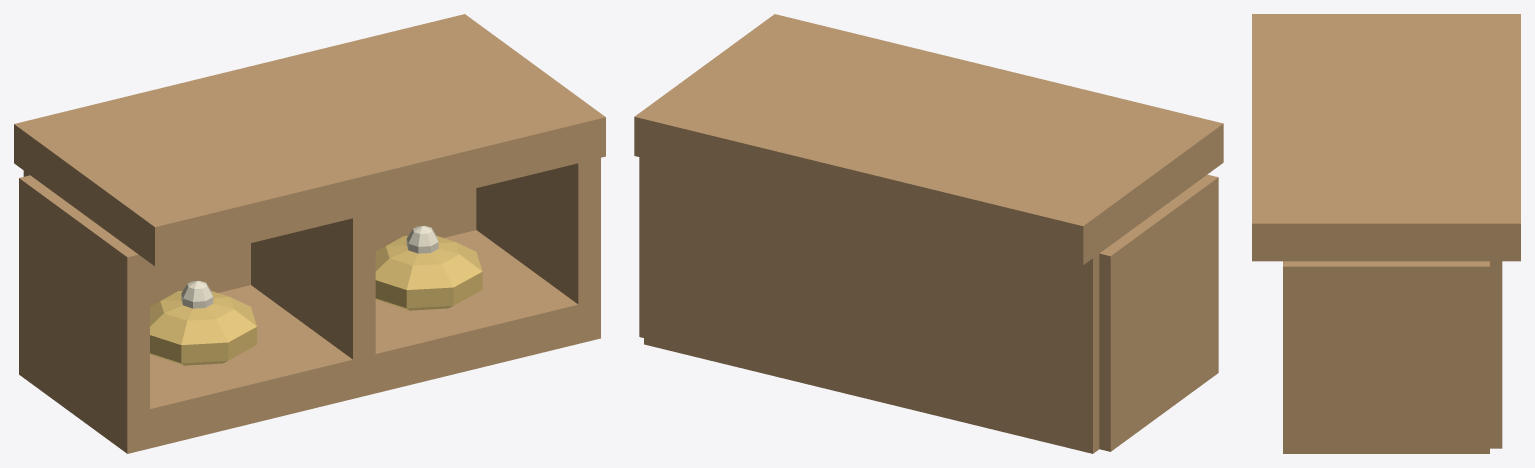
Rendered from cozy-farm-and-homestead-egg-nest-box-846ffc79__19417.glb.
3 views of the same model, side by side, from view 1: azimuth 30°, elevation 25°; view 2: azimuth 150°, elevation 25°; view 3: azimuth 270°, elevation 25° (orthographic). The views are drawn at different scales.
Parts seen in each view (by area): view 1: egg-nest-box; view 2: egg-nest-box; view 3: egg-nest-box.
Boxes of the visible parts, x1,y1,x2,y2 form: egg-nest-box: [14, 14, 605, 453]; egg-nest-box: [634, 14, 1223, 453]; egg-nest-box: [1252, 14, 1520, 453].
Size of the model in its own units: 1.26 by 0.5999 by 0.6501.
